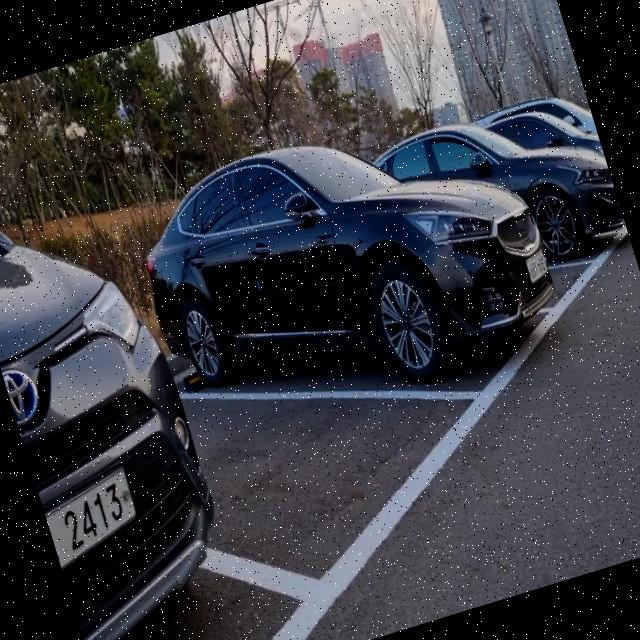empty: (164, 262, 526, 640)
occupied: (141, 95, 584, 478)
